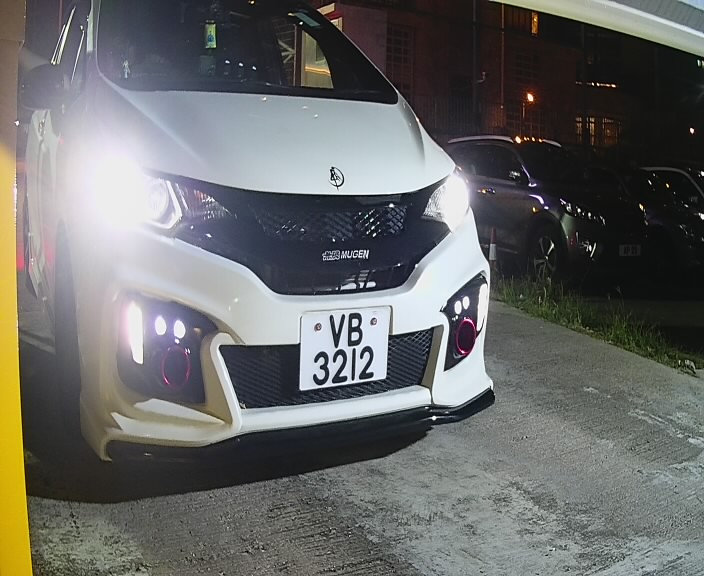Car: (40, 2, 216, 445)
License Plate: (291, 296, 404, 397)
